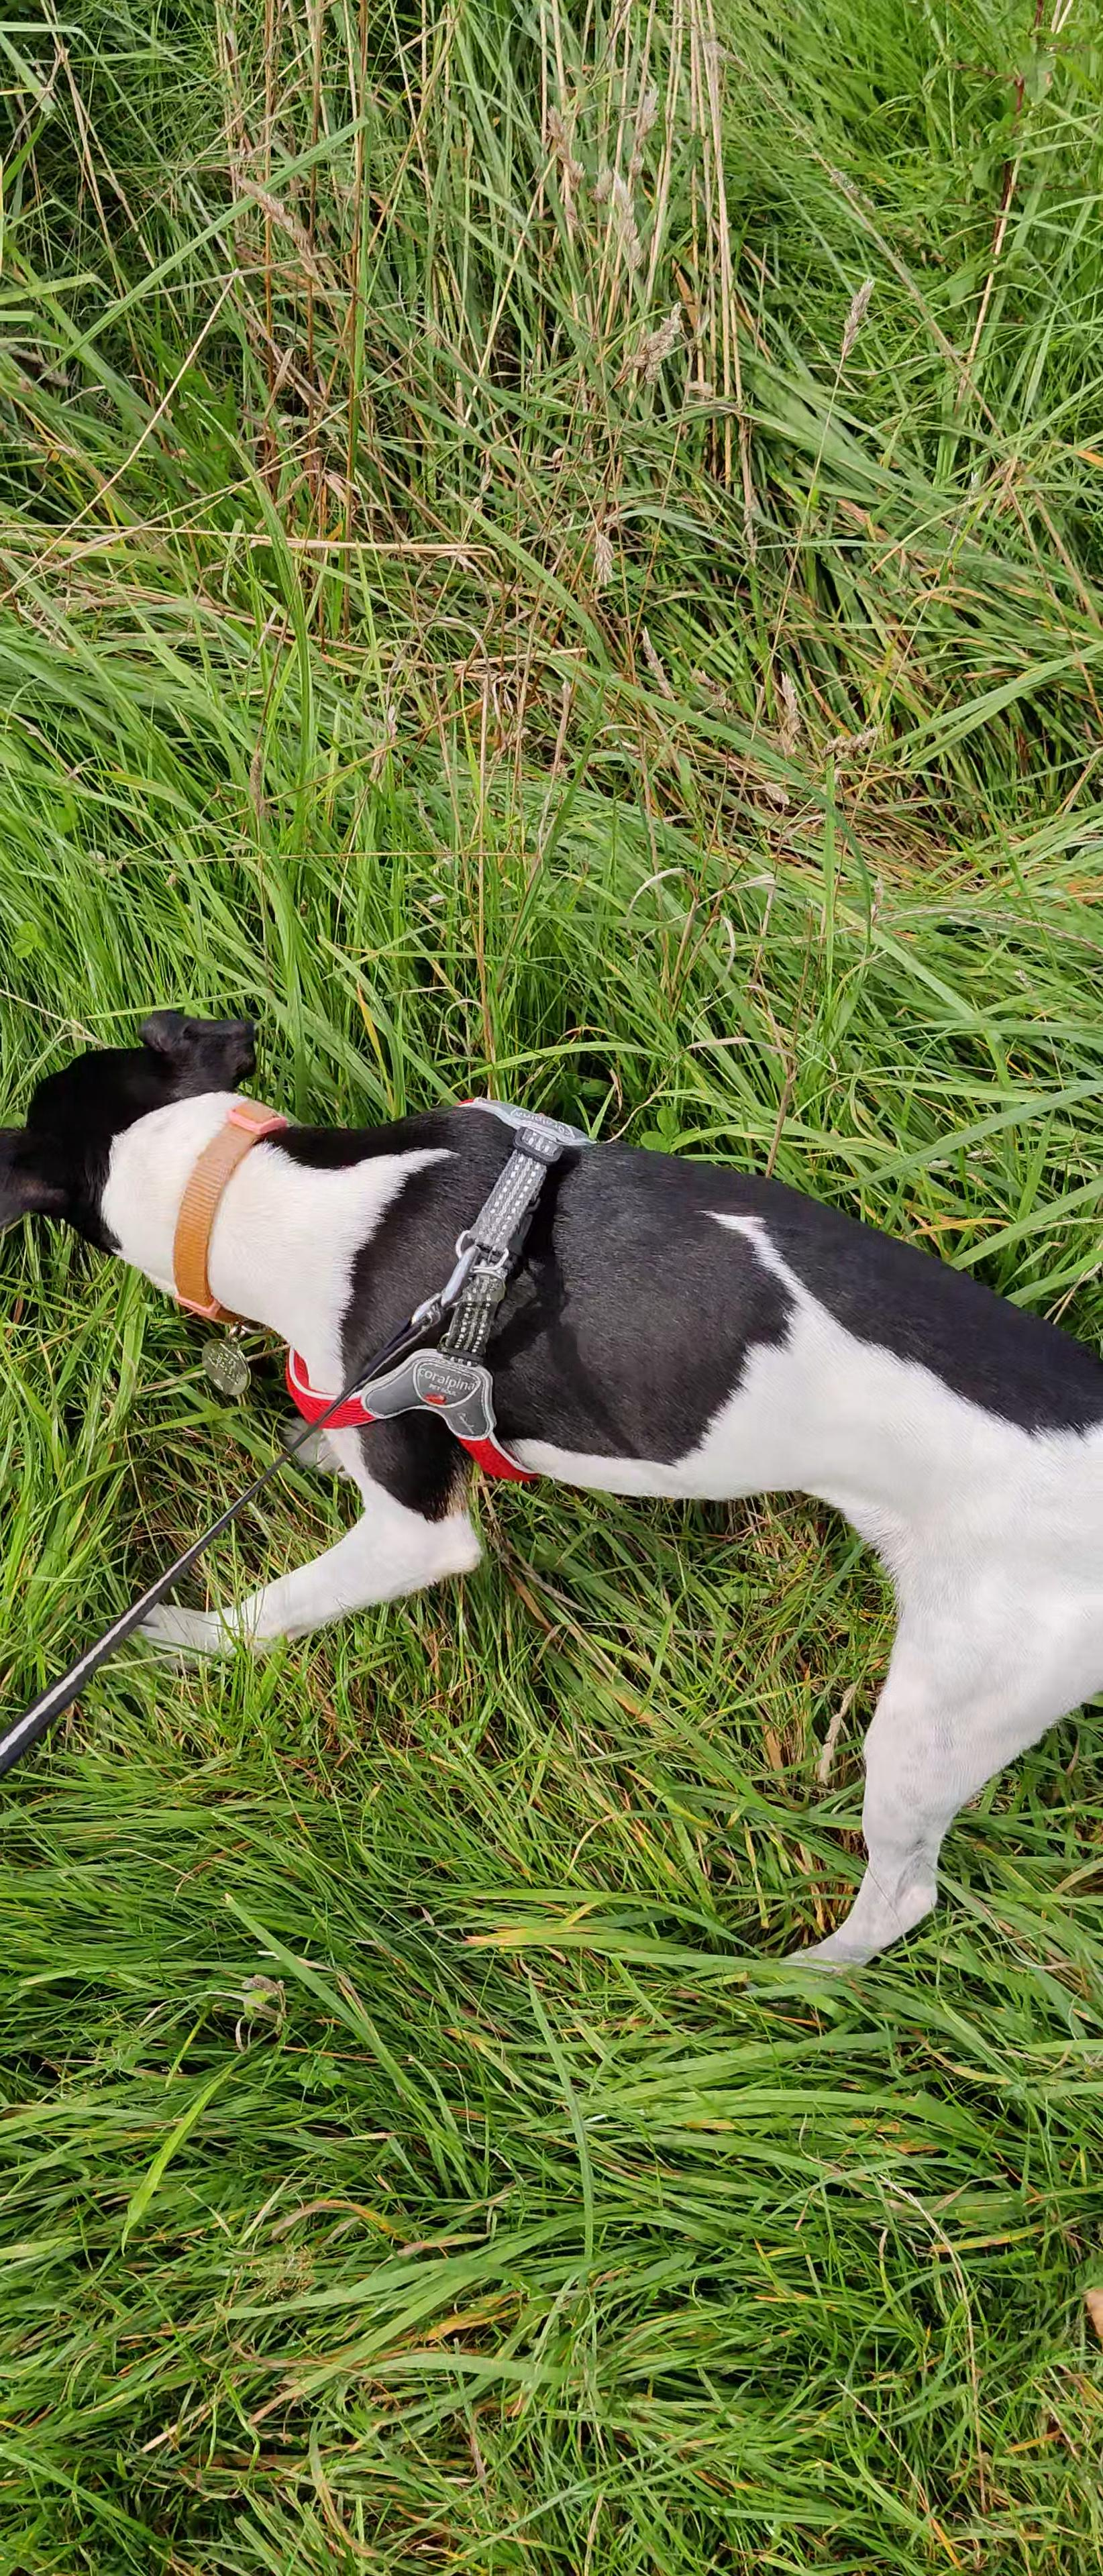Dog: (0, 999, 1103, 1986)
